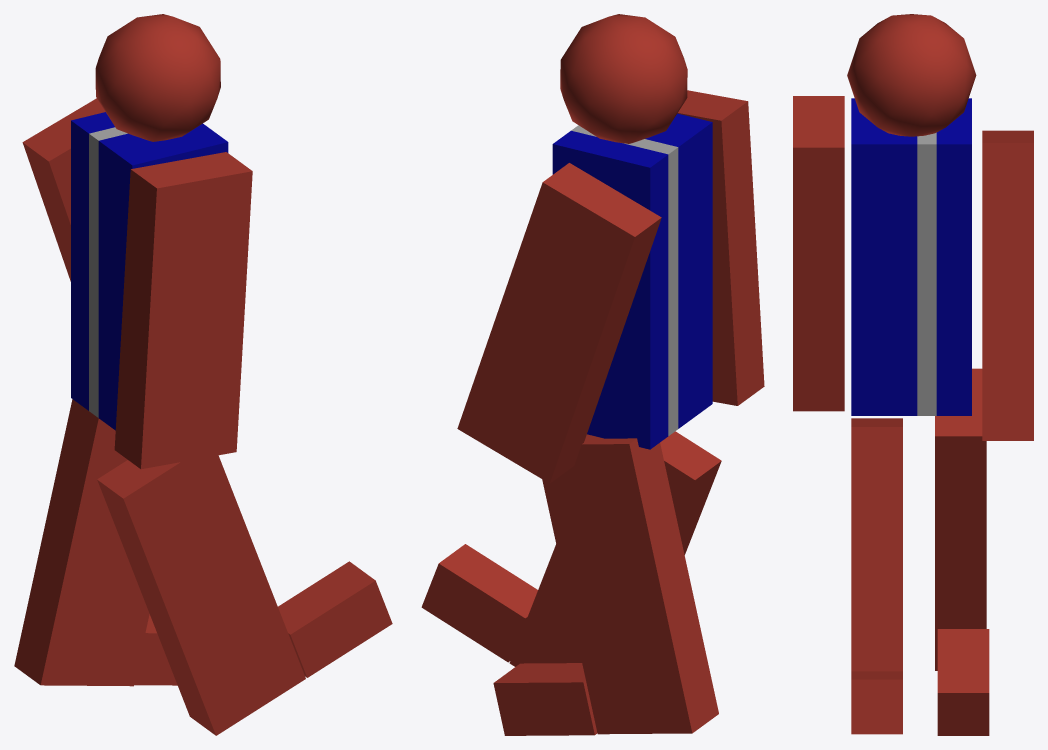
The model's file is player_000013.obj.
3 views of the same model, side by side, from view 1: azimuth 30°, elevation 25°; view 2: azimuth 150°, elevation 25°; view 3: azimuth 270°, elevation 25° (orthographic). The views are drawn at different scales.
Parts seen in each view (by area): view 1: Cube.005, Cube.001, Cube.002, Cube, Icosphere, Cube.003, Cube.006, Cube.004; view 2: Cube.006, Cube.002, Cube, Cube.005, Icosphere, Cube.001, Cube.003, Cube.004; view 3: Cube, Cube.005, Cube.006, Cube.001, Icosphere, Cube.002, Cube.004, Cube.003.
Boxes of the visible parts, <box> form: Cube.005: <box>114,152,252,469</box>; Cube.001: <box>97,455,305,735</box>; Cube.002: <box>14,399,149,686</box>; Cube: <box>71,112,228,430</box>; Icosphere: <box>95,14,220,141</box>; Cube.003: <box>278,561,392,677</box>; Cube.006: <box>22,98,105,281</box>; Cube.004: <box>134,614,177,685</box>; Cube.006: <box>457,163,661,483</box>; Cube.002: <box>542,434,718,734</box>; Cube: <box>552,113,712,449</box>; Cube.005: <box>677,90,764,405</box>; Icosphere: <box>560,14,687,143</box>; Cube.001: <box>509,431,721,666</box>; Cube.003: <box>421,544,537,662</box>; Cube.004: <box>493,663,597,735</box>; Cube: <box>851,98,971,415</box>; Cube.005: <box>793,96,844,411</box>; Cube.006: <box>982,130,1033,440</box>; Cube.001: <box>851,418,902,671</box>; Icosphere: <box>847,14,976,136</box>; Cube.002: <box>935,368,986,670</box>; Cube.004: <box>937,629,989,735</box>; Cube.003: <box>851,671,902,734</box>.
Size of the model in its own units: 1.33 by 2.87 by 0.9137.
